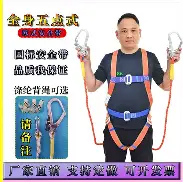safety belt: (99, 50, 155, 153)
